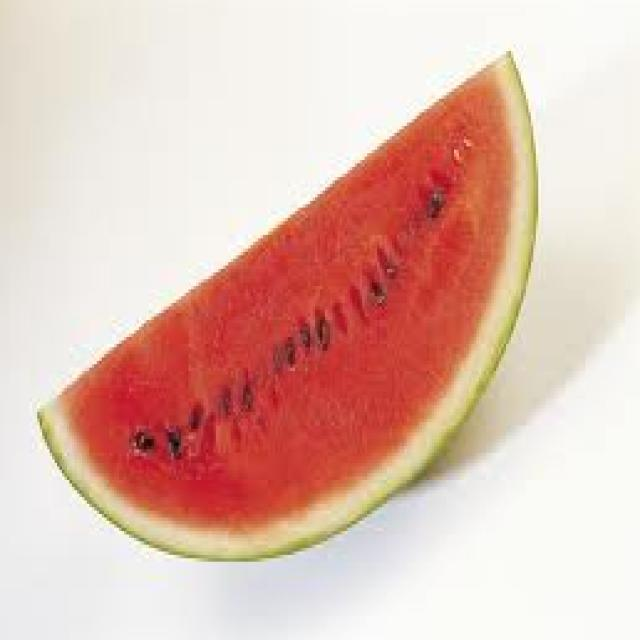watermelon: (30, 34, 543, 558)
